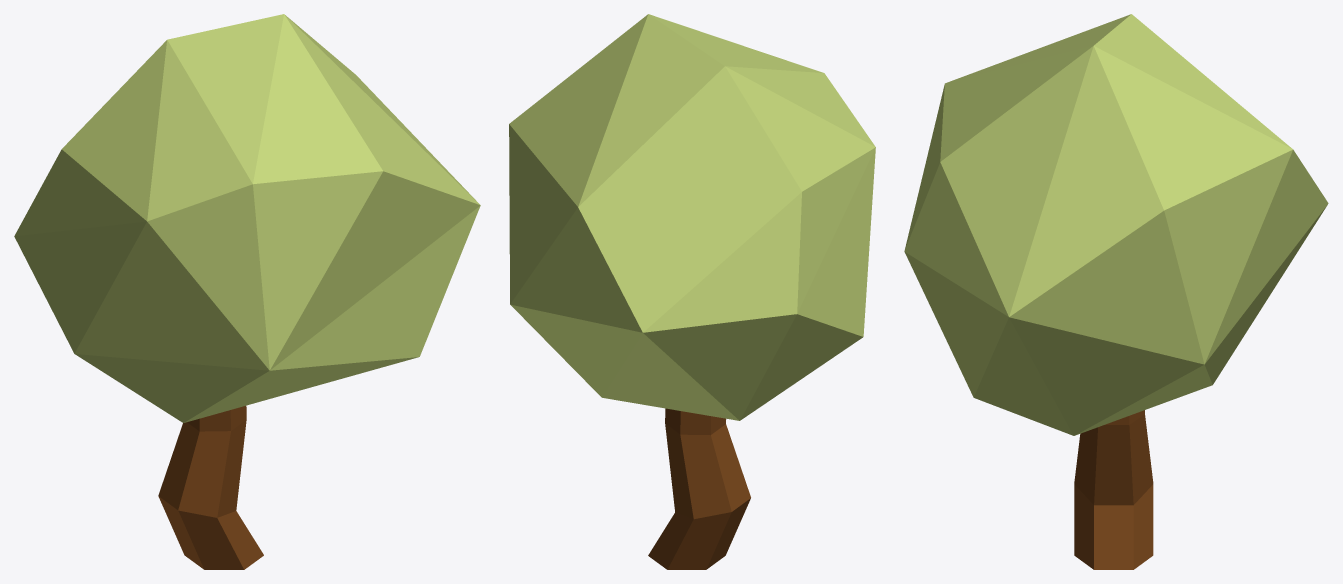
File: Bush1.gltf
The picture shows the model from 3 angles, left to right: view 1: azimuth 30°, elevation 25°; view 2: azimuth 150°, elevation 25°; view 3: azimuth 270°, elevation 25°; orthographic projection. The views are drawn at different scales.
Visible parts, largest first — view 1: Bush1_Icosphere; view 2: Bush1_Icosphere; view 3: Bush1_Icosphere.
Boxes of the visible parts, bbox=[...] form: Bush1_Icosphere: bbox=[14, 14, 480, 569]; Bush1_Icosphere: bbox=[509, 14, 875, 569]; Bush1_Icosphere: bbox=[904, 14, 1328, 569].
Bounding box in the file's own units: 1.07 × 1.49 × 1.07.
